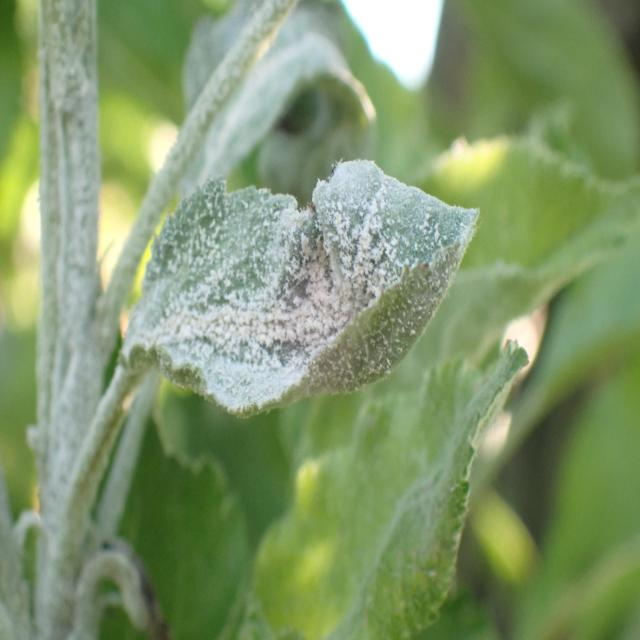Powdery_mildew: (108, 144, 483, 404), (159, 0, 405, 239)
